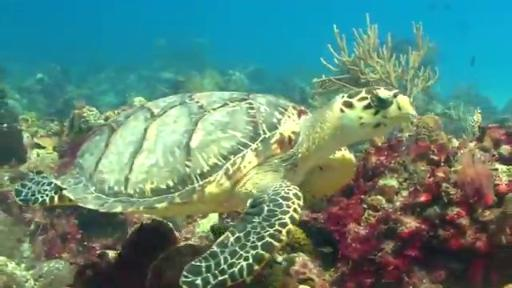Fish: (15, 88, 415, 287)
